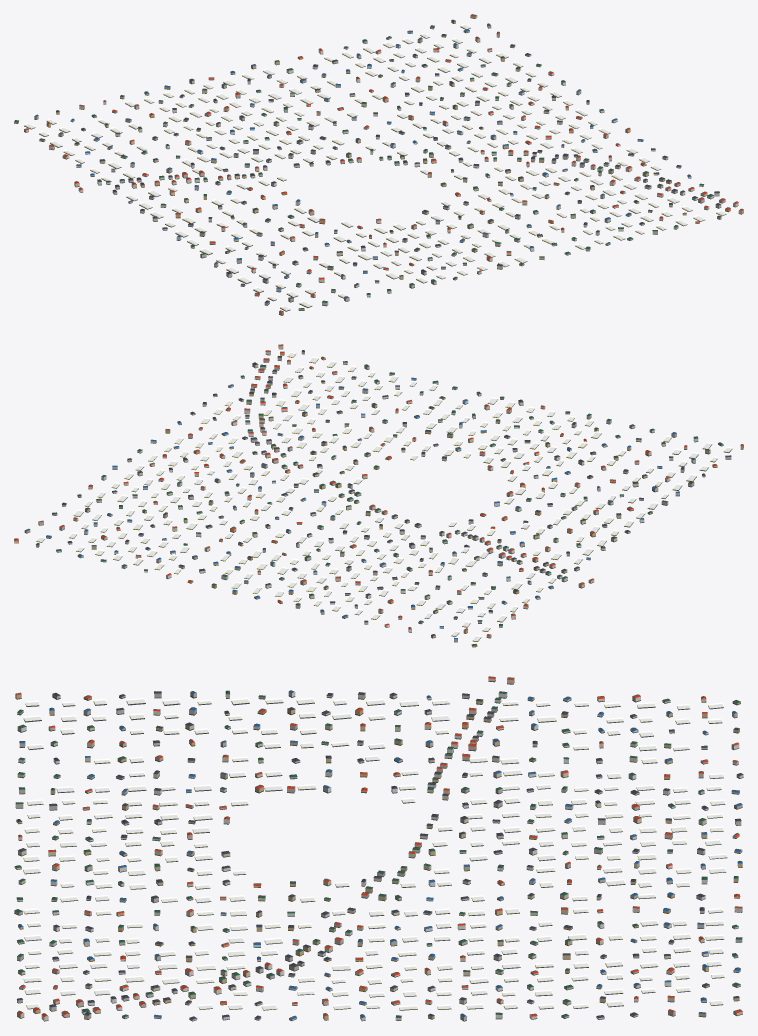
Rendered from buildings_T_E03_N06.glb.
The picture shows the model from 3 angles, top to bottom: view 1: azimuth 30°, elevation 25°; view 2: azimuth 150°, elevation 25°; view 3: azimuth 270°, elevation 25°; orthographic projection. The views are drawn at different scales.
Parts seen in each view (by area): view 1: T_E03_N06_roofs_agri_greenhouse_arch, T_E03_N06_slope_seating_foundations, T_E03_N06_walls_wall_dalat_cream_stucco, T_E03_N06_walls_wall_pastel_sand_gray, T_E03_N06_roofs_roof_slate_French_villa_hip, T_E03_N06_walls_wall_modern_warm_white, T_E03_N06_walls_wall_french_ochre_villa, T_E03_N06_roofs_roof_terracotta_gable, T_E03_N06_roofs_roof_pine_green_hip, T_E03_N06_roofs_roof_highland_blue_gable; view 2: T_E03_N06_roofs_agri_greenhouse_arch, T_E03_N06_slope_seating_foundations, T_E03_N06_walls_wall_dalat_cream_stucco, T_E03_N06_walls_wall_pastel_sand_gray, T_E03_N06_roofs_roof_slate_French_villa_hip, T_E03_N06_walls_wall_french_ochre_villa, T_E03_N06_walls_wall_modern_warm_white, T_E03_N06_roofs_roof_terracotta_gable, T_E03_N06_roofs_roof_pine_green_hip, T_E03_N06_roofs_roof_highland_blue_gable; view 3: T_E03_N06_roofs_agri_greenhouse_arch, T_E03_N06_slope_seating_foundations, T_E03_N06_walls_wall_dalat_cream_stucco, T_E03_N06_walls_wall_pastel_sand_gray, T_E03_N06_roofs_roof_slate_French_villa_hip, T_E03_N06_walls_wall_modern_warm_white, T_E03_N06_walls_wall_french_ochre_villa, T_E03_N06_roofs_roof_terracotta_gable, T_E03_N06_roofs_roof_pine_green_hip, T_E03_N06_roofs_roof_highland_blue_gable.
Part boxes in pixels (<box>): T_E03_N06_roofs_agri_greenhouse_arch: <box>24,23,726,310</box>; T_E03_N06_slope_seating_foundations: <box>14,17,743,315</box>; T_E03_N06_walls_wall_dalat_cream_stucco: <box>24,15,743,292</box>; T_E03_N06_walls_wall_pastel_sand_gray: <box>34,30,725,310</box>; T_E03_N06_roofs_roof_slate_French_villa_hip: <box>56,19,721,303</box>; T_E03_N06_walls_wall_modern_warm_white: <box>49,44,738,305</box>; T_E03_N06_walls_wall_french_ochre_villa: <box>14,21,730,314</box>; T_E03_N06_roofs_roof_terracotta_gable: <box>25,14,743,312</box>; T_E03_N06_roofs_roof_pine_green_hip: <box>14,25,713,309</box>; T_E03_N06_roofs_roof_highland_blue_gable: <box>35,23,691,298</box>; T_E03_N06_roofs_agri_greenhouse_arch: <box>36,351,732,641</box>; T_E03_N06_slope_seating_foundations: <box>14,348,743,647</box>; T_E03_N06_walls_wall_dalat_cream_stucco: <box>14,345,673,637</box>; T_E03_N06_walls_wall_pastel_sand_gray: <box>38,352,731,641</box>; T_E03_N06_roofs_roof_slate_French_villa_hip: <box>36,350,731,635</box>; T_E03_N06_walls_wall_french_ochre_villa: <box>24,353,743,646</box>; T_E03_N06_walls_wall_modern_warm_white: <box>62,352,698,632</box>; T_E03_N06_roofs_roof_terracotta_gable: <box>14,344,743,635</box>; T_E03_N06_roofs_roof_pine_green_hip: <box>56,361,723,645</box>; T_E03_N06_roofs_roof_highland_blue_gable: <box>25,377,709,639</box>; T_E03_N06_roofs_agri_greenhouse_arch: <box>23,697,727,1009</box>; T_E03_N06_slope_seating_foundations: <box>14,680,743,1021</box>; T_E03_N06_walls_wall_dalat_cream_stucco: <box>14,678,743,1019</box>; T_E03_N06_walls_wall_pastel_sand_gray: <box>14,692,742,1020</box>; T_E03_N06_roofs_roof_slate_French_villa_hip: <box>16,691,743,1019</box>; T_E03_N06_walls_wall_modern_warm_white: <box>17,677,742,1020</box>; T_E03_N06_walls_wall_french_ochre_villa: <box>15,693,742,1019</box>; T_E03_N06_roofs_roof_terracotta_gable: <box>16,676,742,1016</box>; T_E03_N06_roofs_roof_pine_green_hip: <box>14,690,742,1017</box>; T_E03_N06_roofs_roof_highland_blue_gable: <box>18,690,742,1019</box>.
Bounding box in the file's own units: 1846 × 64.98 × 1753.
